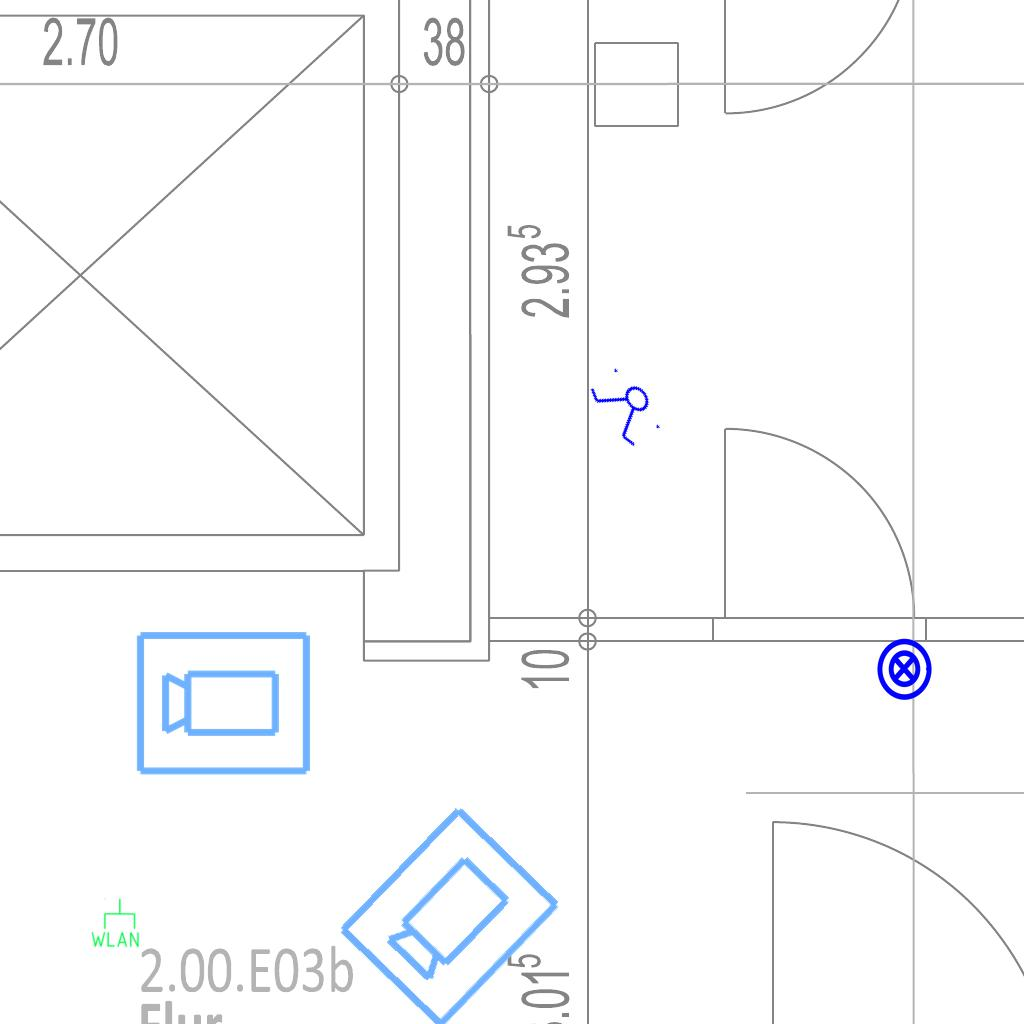KFO_Kamera_mit_Festobjektiv: (330, 797, 568, 1024), (133, 625, 315, 779)
Serienschalter: (582, 359, 672, 455)
Taster_beleuchtet: (871, 636, 937, 702)
WLAN: (89, 897, 141, 949)
